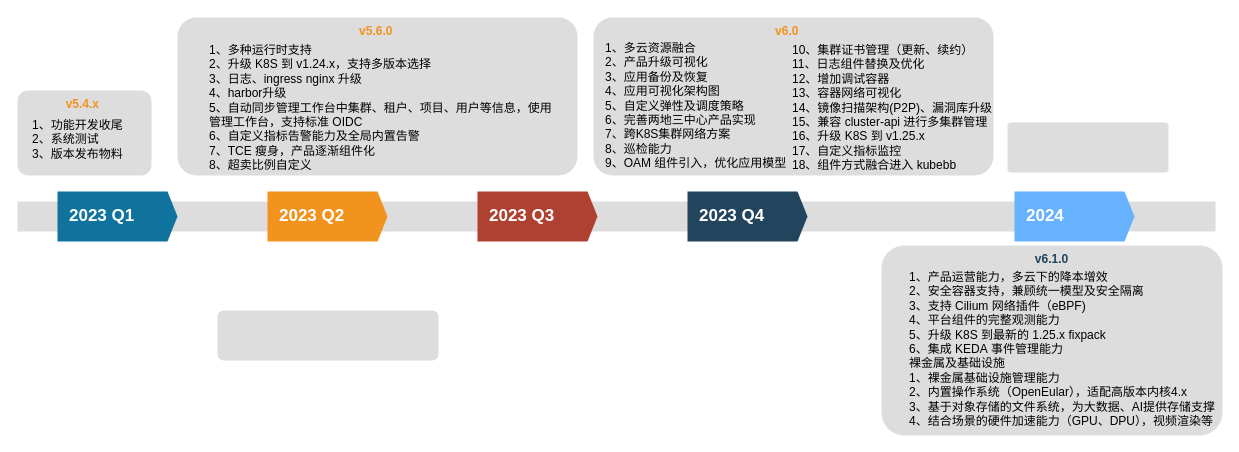
Some shapes in this 1239 by 452 pixel diagram are drawn without their labels. The centre of each missing label's shape, as x and y in pixels:
v5.6.1 发布 fixpack 版本，提供 v5.6.0 的升级支持: [327,335]
v5.7.0 v5.6.0 版本之上的客户需求支持: [1087,147]
